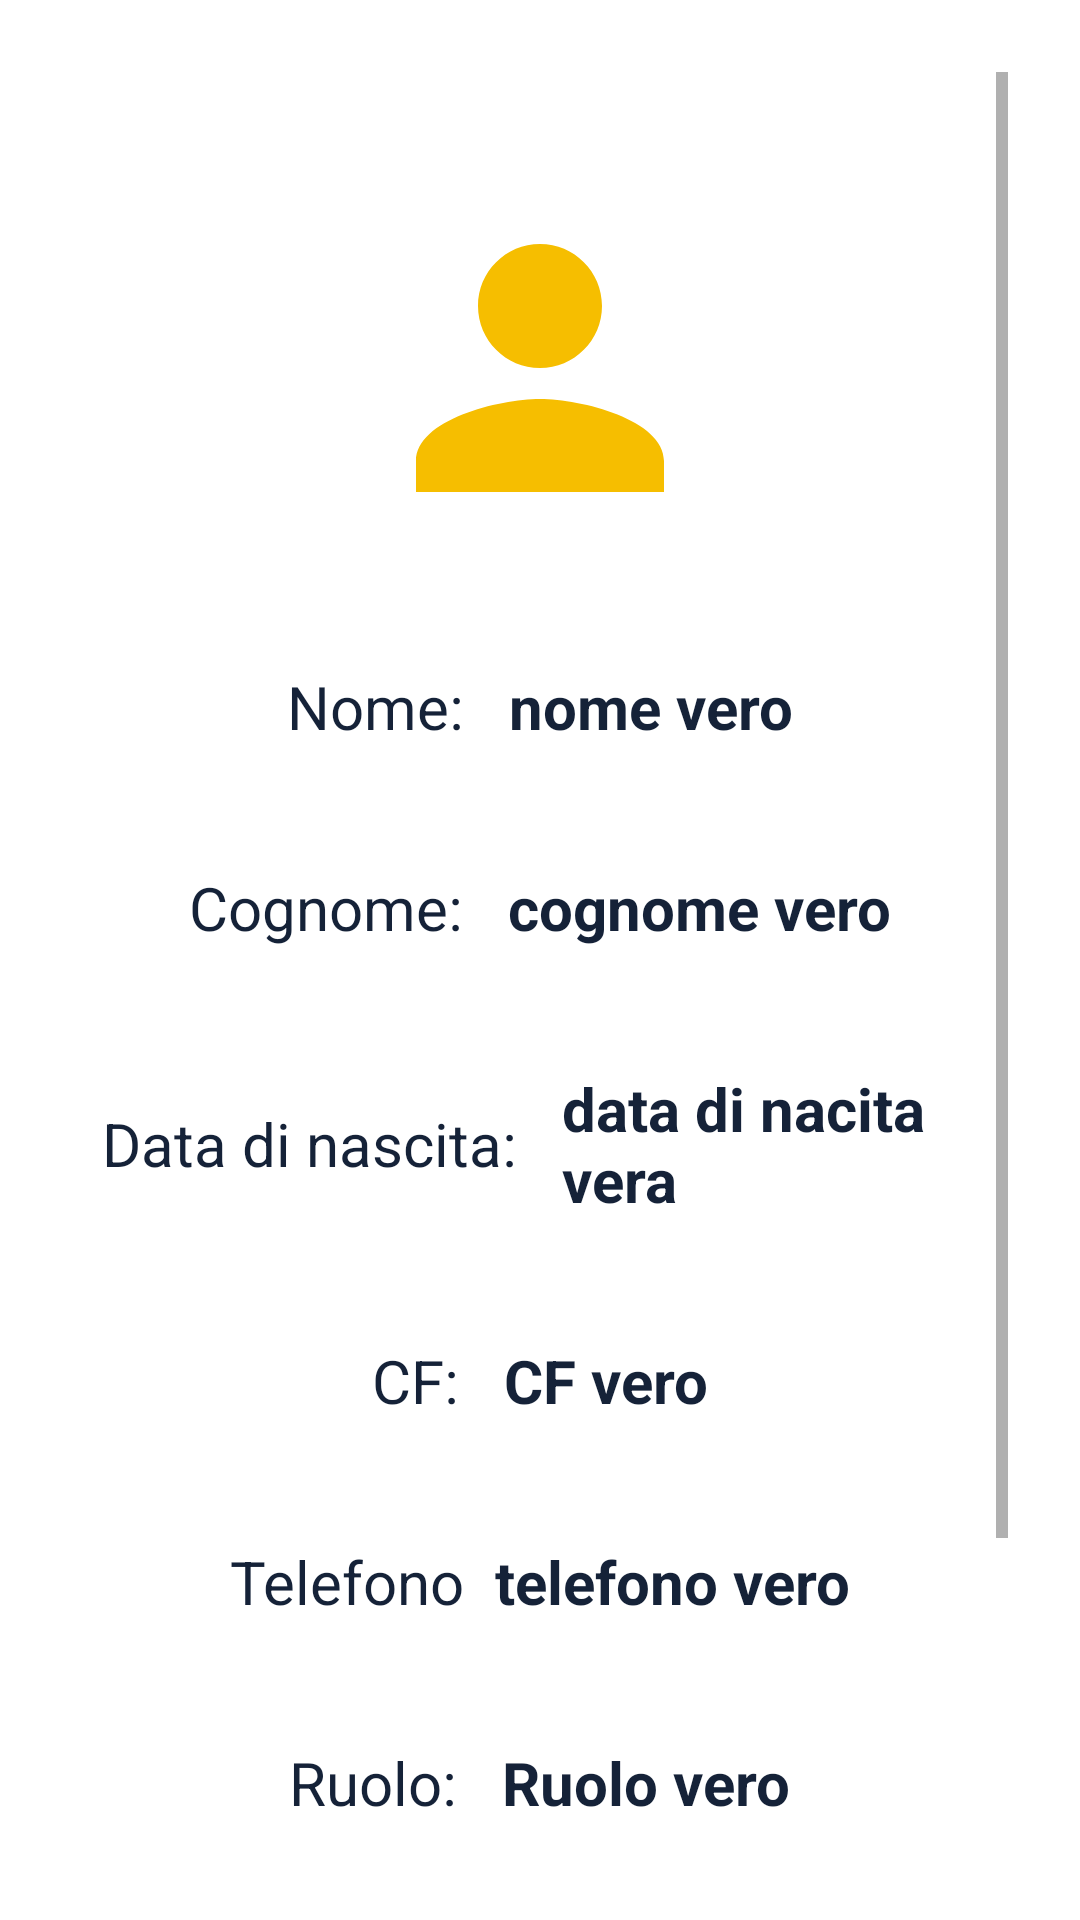

Point at icon controls on the screen. Image size 1080 × 1920, points as (x=x, y=y).
person: (x=540, y=368)
